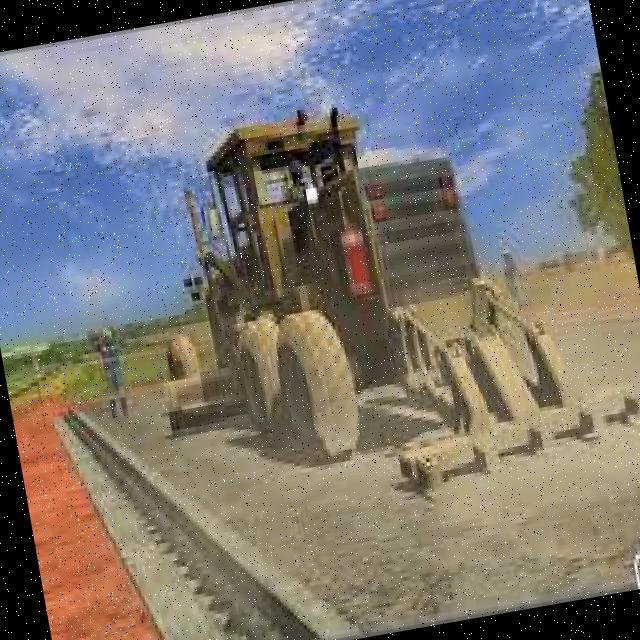Grader: (95, 22, 640, 548)
